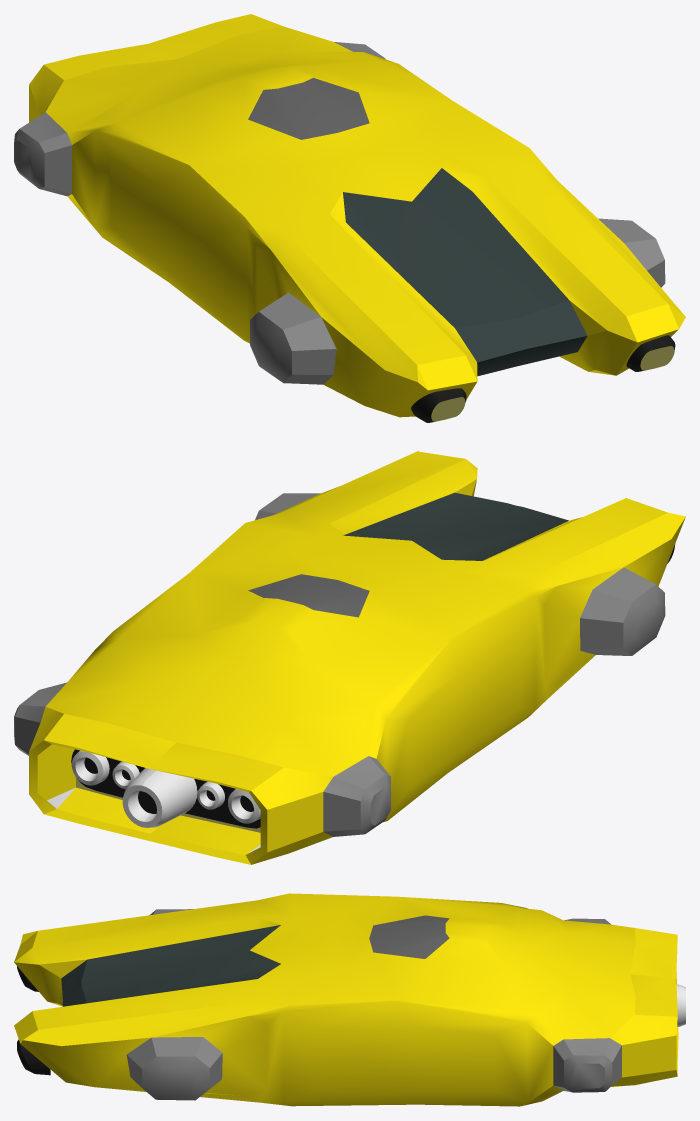
Rendered from body.fbx.
The picture shows the model from 3 angles, top to bottom: view 1: azimuth 30°, elevation 25°; view 2: azimuth 150°, elevation 25°; view 3: azimuth 270°, elevation 25°; orthographic projection. The views are drawn at different scales.
Parts seen in each view (by area): view 1: Cube; view 2: Cube; view 3: Cube.
Part boxes in pixels (x1,y1,x2,y2): Cube: (14,14,685,422); Cube: (14,451,685,864); Cube: (14,893,685,1106).
Bounding box in the file's own units: 541 × 227 × 1010.
